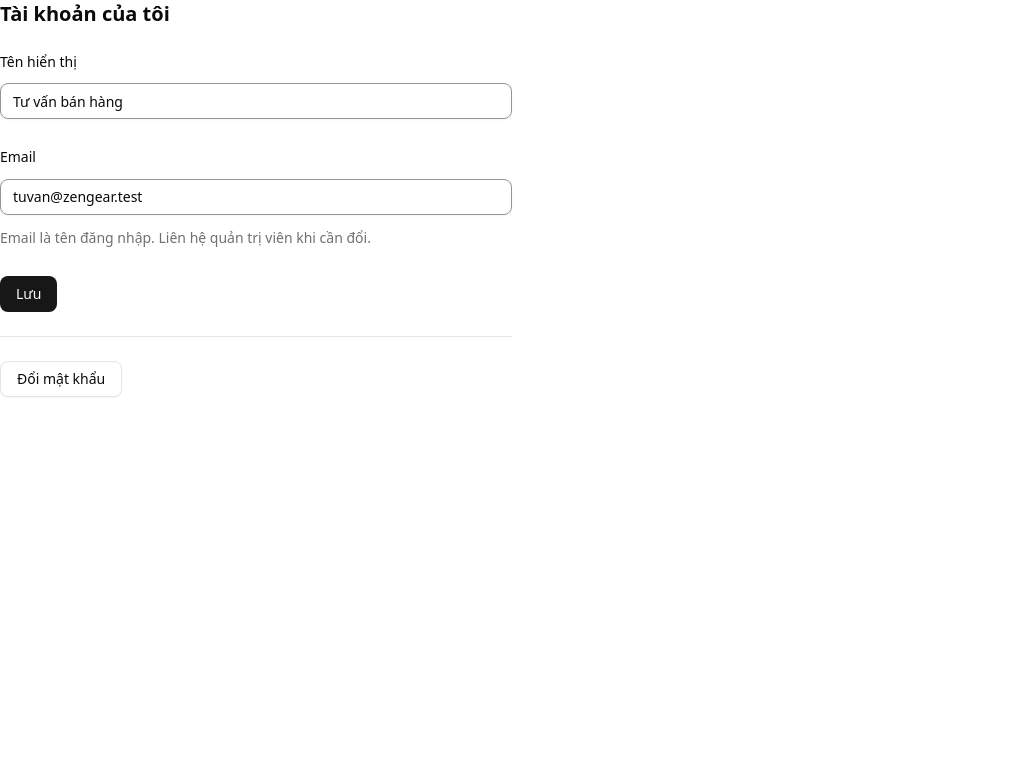
"Đổi mật khẩu" › closes with "Hủy"
Click the button "Đổi mật khẩu": (61, 378) [0, 360, 122, 396]
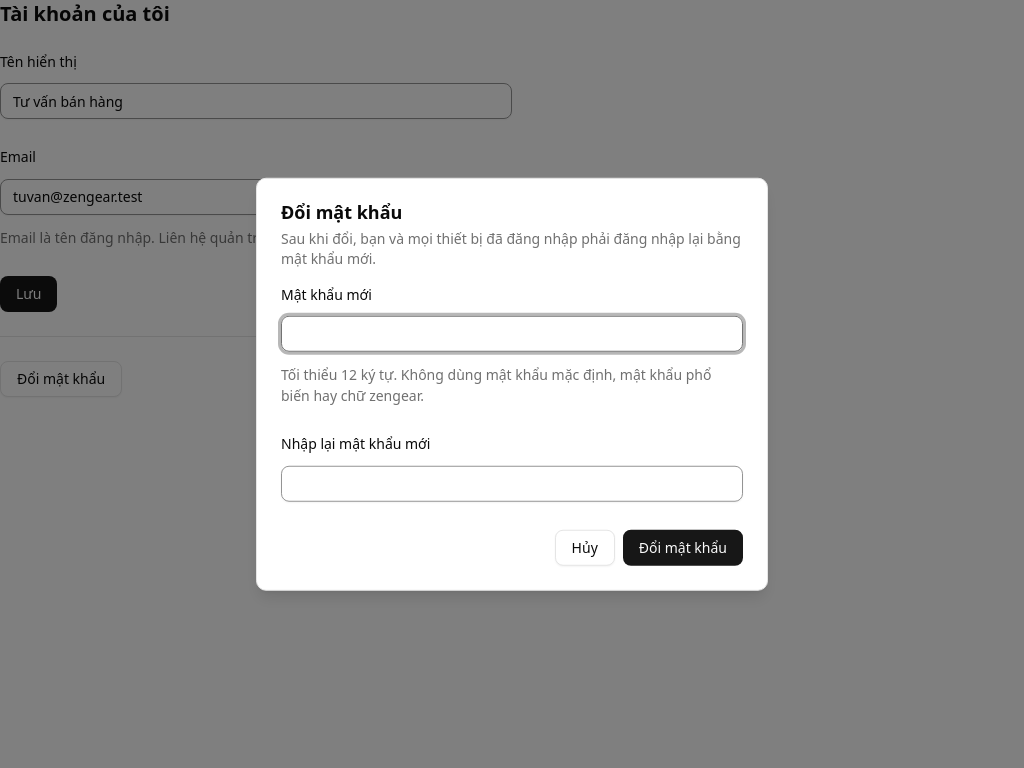
Click the button "Hủy": (585, 547) [555, 529, 615, 565]
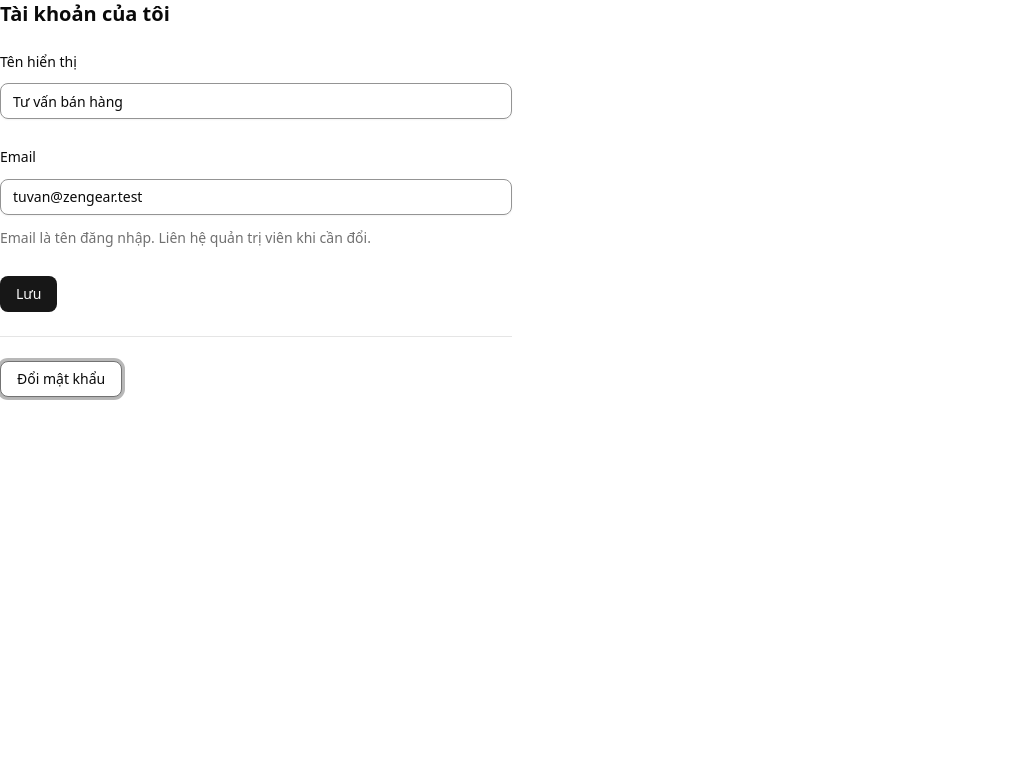
Now the dialog is gone
